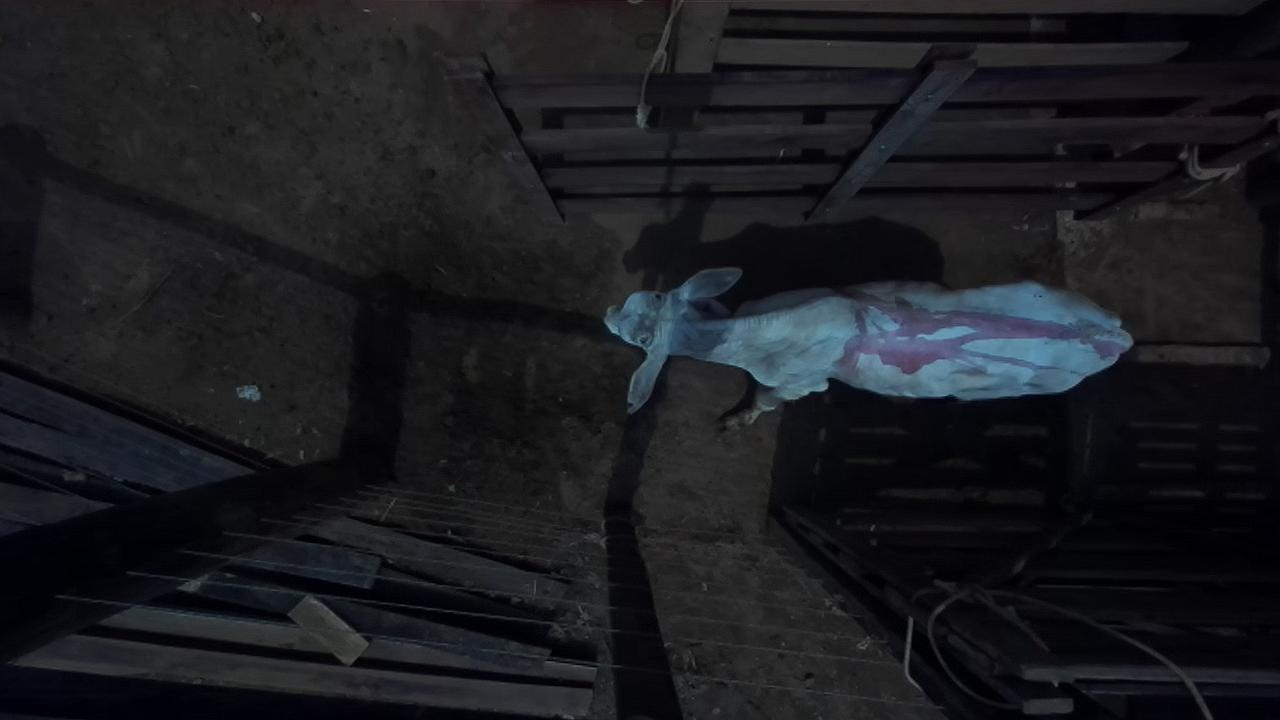cattle: (602, 265, 1134, 432)
